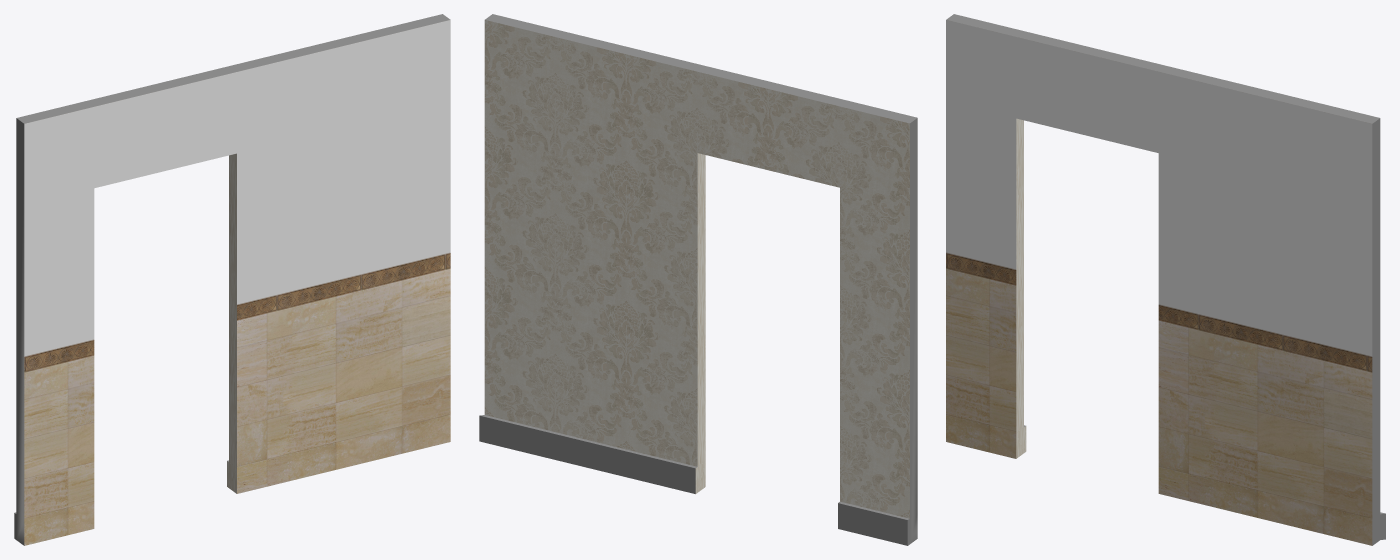
File: Wall 3.FBX
3 views of the same model, side by side, from view 1: azimuth 30°, elevation 25°; view 2: azimuth 150°, elevation 25°; view 3: azimuth 330°, elevation 25° (orthographic).
Visible parts, largest first — view 1: Wall 3; view 2: Wall 3; view 3: Wall 3.
Boxes of the visible parts, x1,y1,x2,y2 form: Wall 3: (14,14,450,545); Wall 3: (479,14,917,545); Wall 3: (946,14,1385,545).
Size of the model in its own units: 278 by 261 by 11.22.
Materials: 3 (2 with a texture image).
